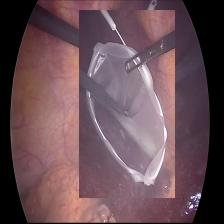Grasper: (89, 35, 135, 82), (120, 101, 140, 122)
Specimen Bag: (79, 10, 175, 198)
